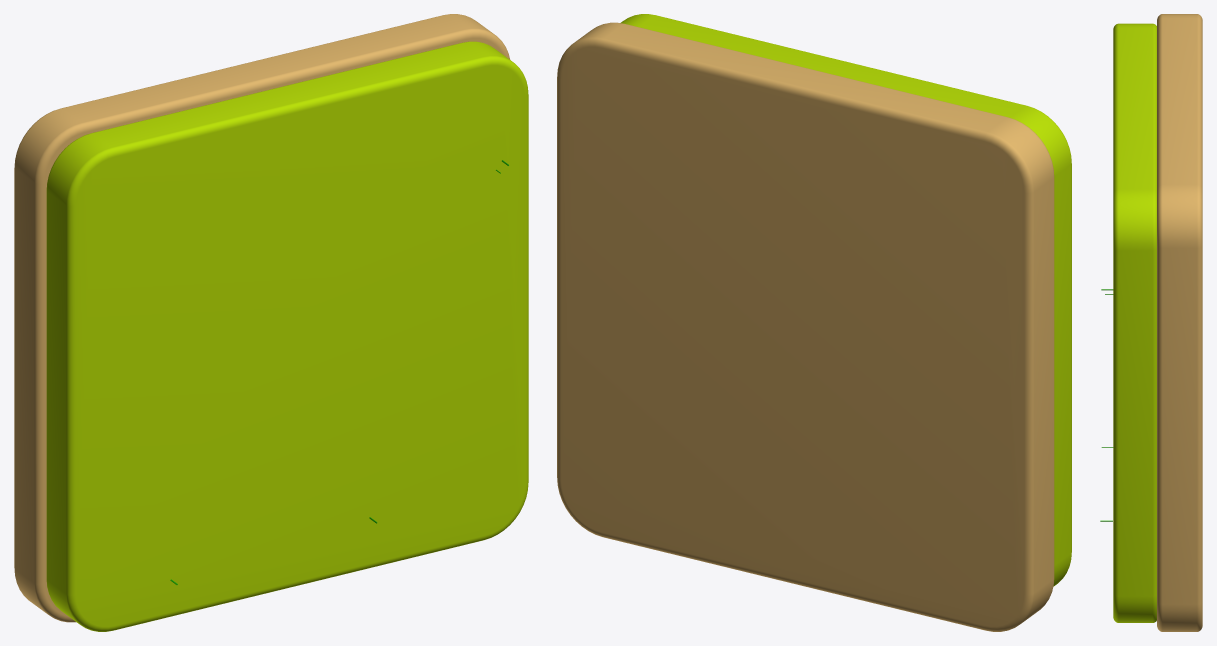
File: land2.fbx
The picture shows the model from 3 angles, left to right: view 1: azimuth 30°, elevation 25°; view 2: azimuth 150°, elevation 25°; view 3: azimuth 270°, elevation 25°; orthographic projection. The views are drawn at different scales.
Parts seen in each view (by area): view 1: land2; view 2: land2; view 3: land2.
Boxes of the visible parts, x1,y1,x2,y2 form: land2: (14,14,528,631); land2: (557,14,1071,631); land2: (1100,14,1202,631).
Size of the model in its own units: 9.98 by 2.09 by 9.98.
